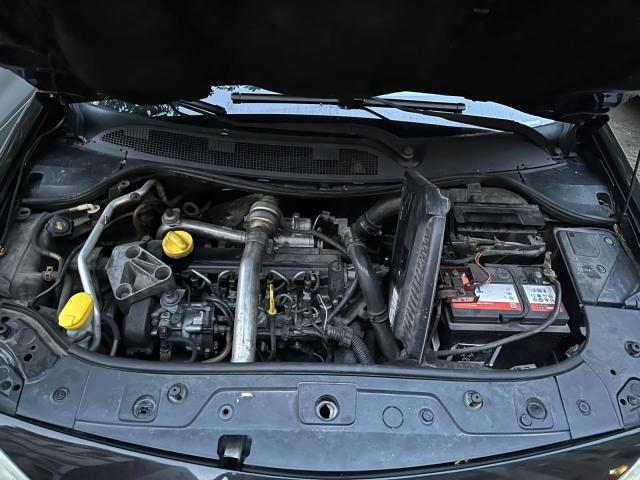accumulator: (436, 259, 570, 369)
antifreeze_tank: (0, 214, 56, 301), (38, 215, 74, 249)
fuse_box: (555, 229, 640, 306)
high_pressure_pump: (158, 301, 229, 361)
